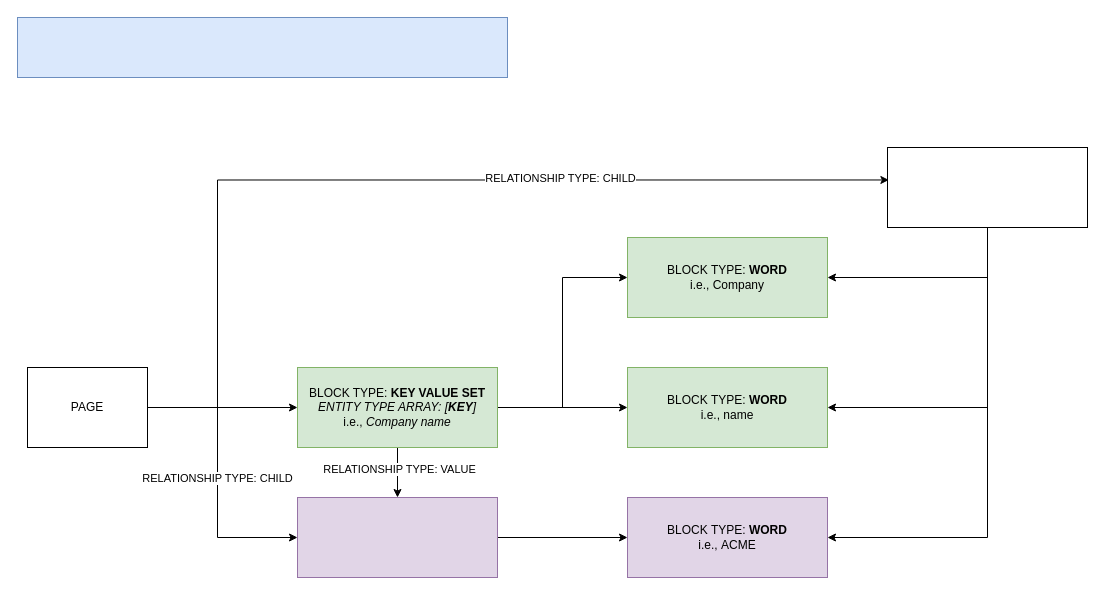
Some shapes in this 1105 by 595 pixel diagram are drawn without their labels. Here are the shapes that lost their labels. From the top down, the centre of each, then its label:
the point at 262,47: Company name: ACME
the point at 987,187: BLOCK TYPE: LINE i.e., Company name: ACME
the point at 397,537: BLOCK TYPE: KEY VALUE SET ENTITY TYPE ARRAY: [ VALUE ] i.e., ACME
